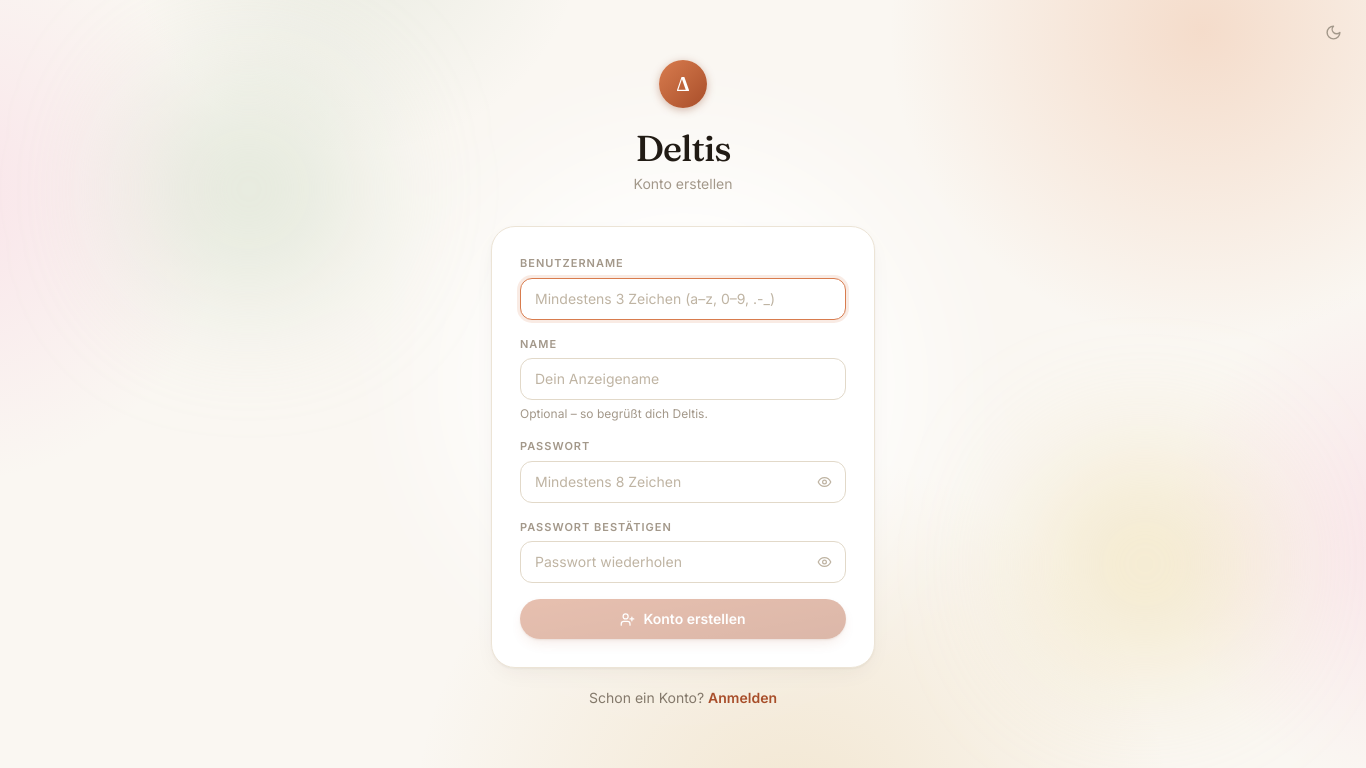
Test: Register – Ablauf › shows server errors (e.g. username taken)
Type "vergeben" into the field with placeholder "Mindestens 3 Zeichen (a–z, 0–9, .-_)".
click(683, 298); type("vergeben")  # box left=520, top=278, right=846, bottom=320
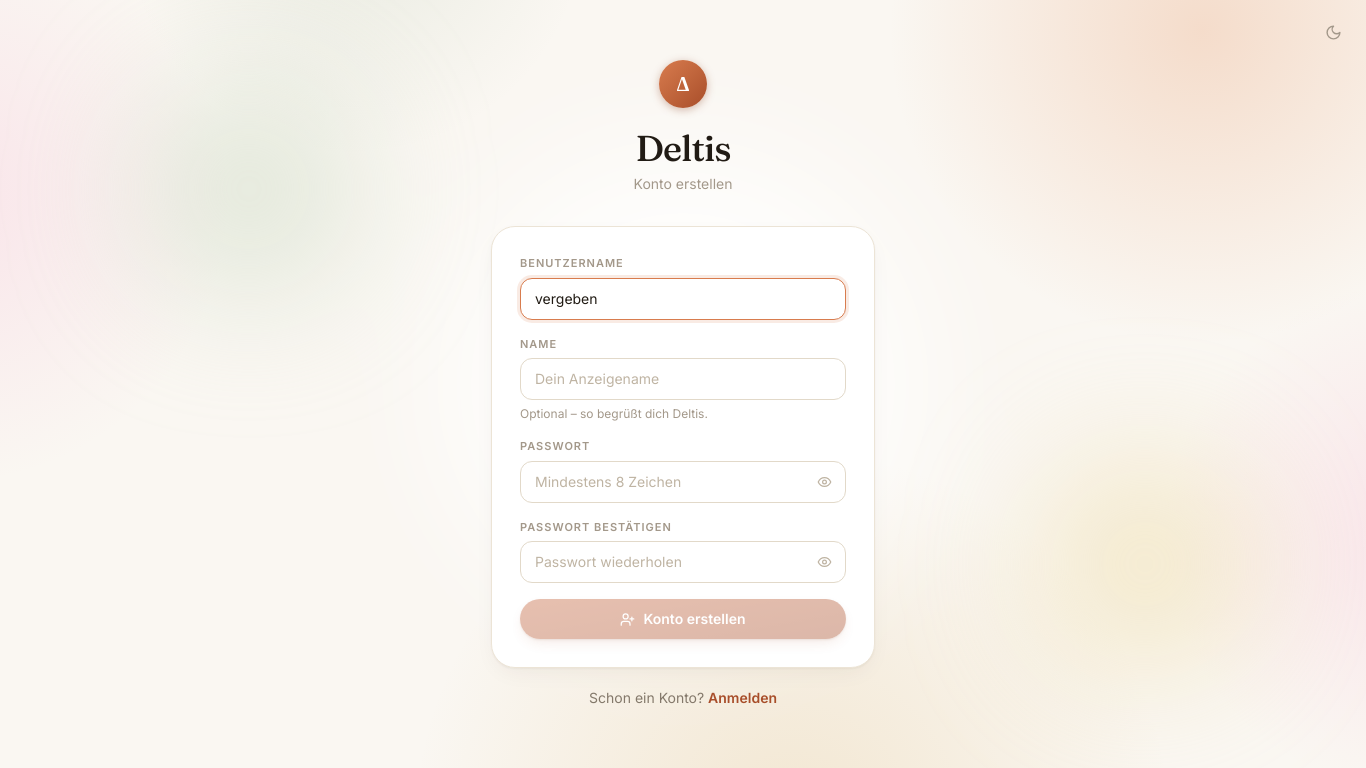
Type "superpasswort" into the password field with placeholder "Mindestens 8 Zeichen".
click(683, 482); type("superpasswort")  # box left=520, top=460, right=846, bottom=502
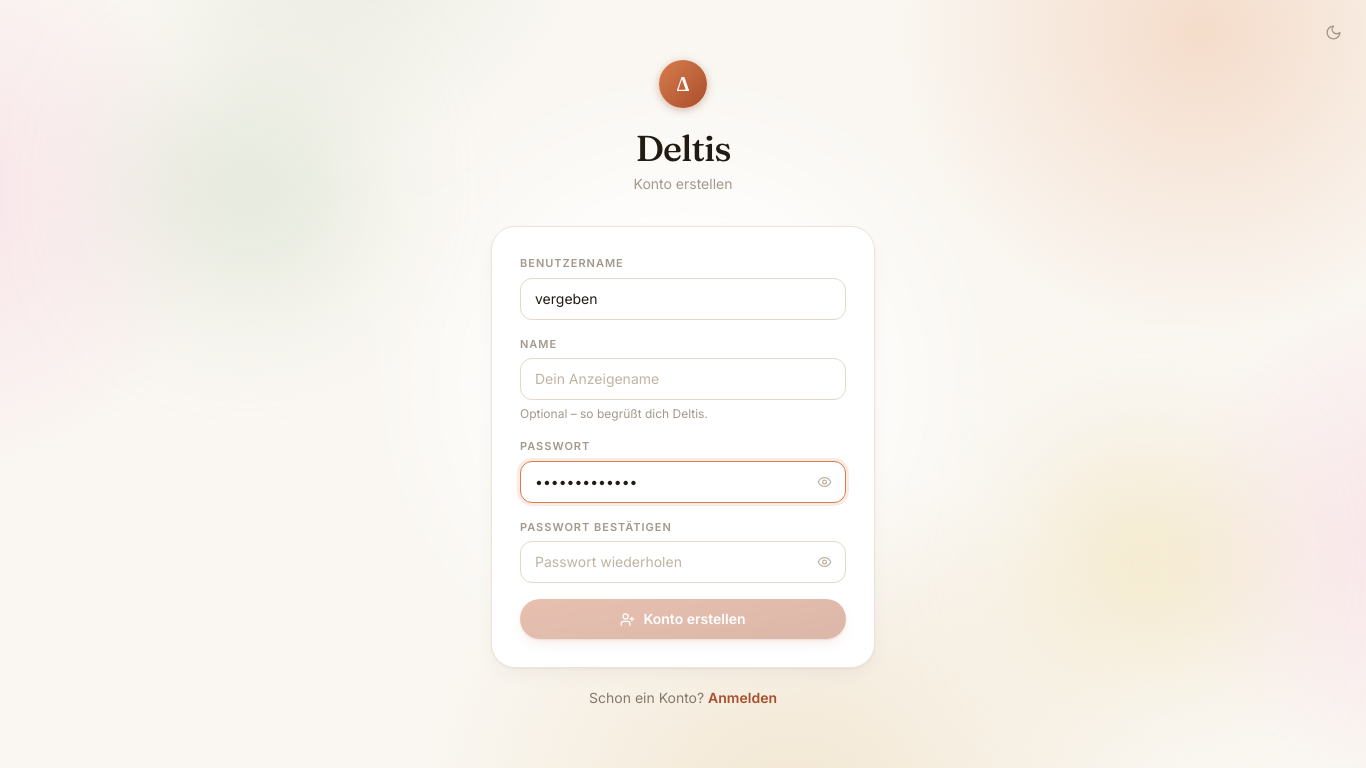
Type "superpasswort" into the password field with placeholder "Passwort wiederholen".
click(683, 562); type("superpasswort")  # box left=520, top=541, right=846, bottom=583
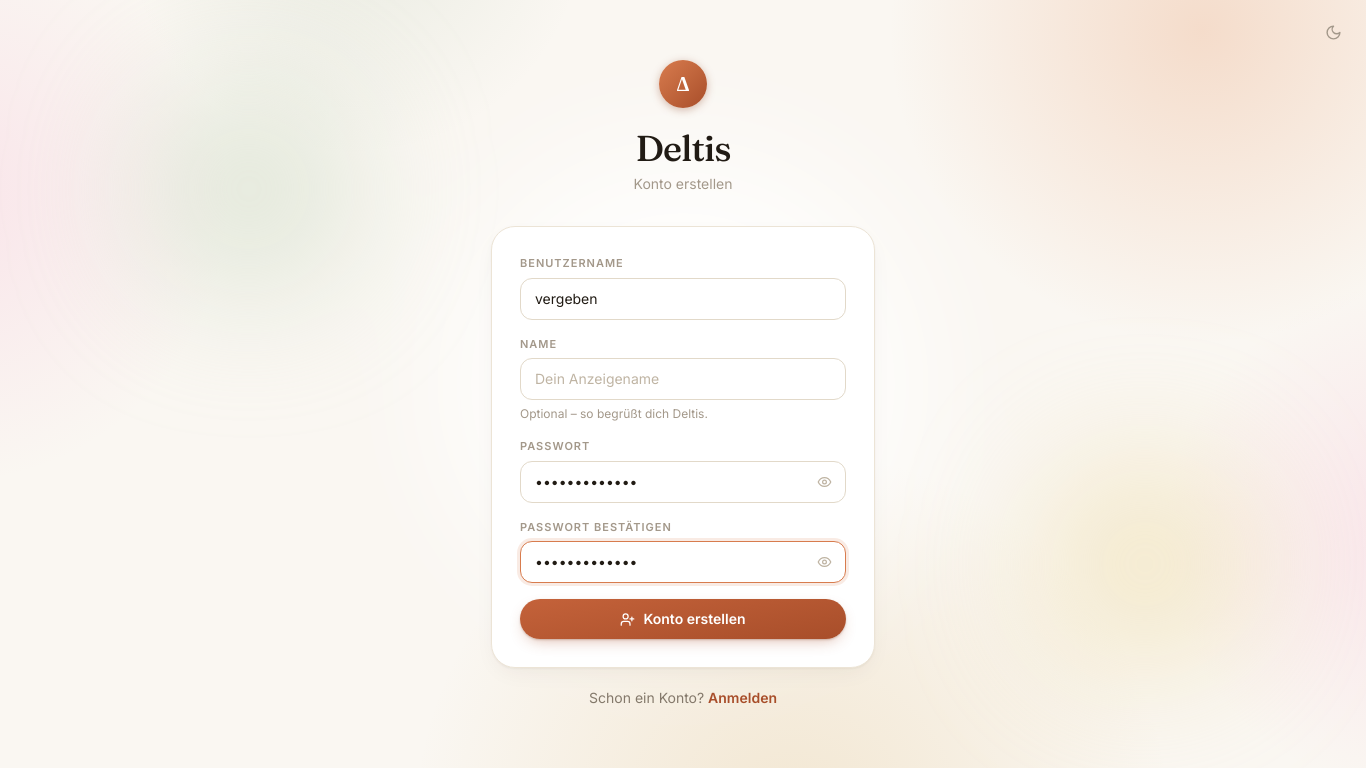
Click the button "Konto erstellen".
click(683, 619)  # box left=520, top=599, right=846, bottom=639
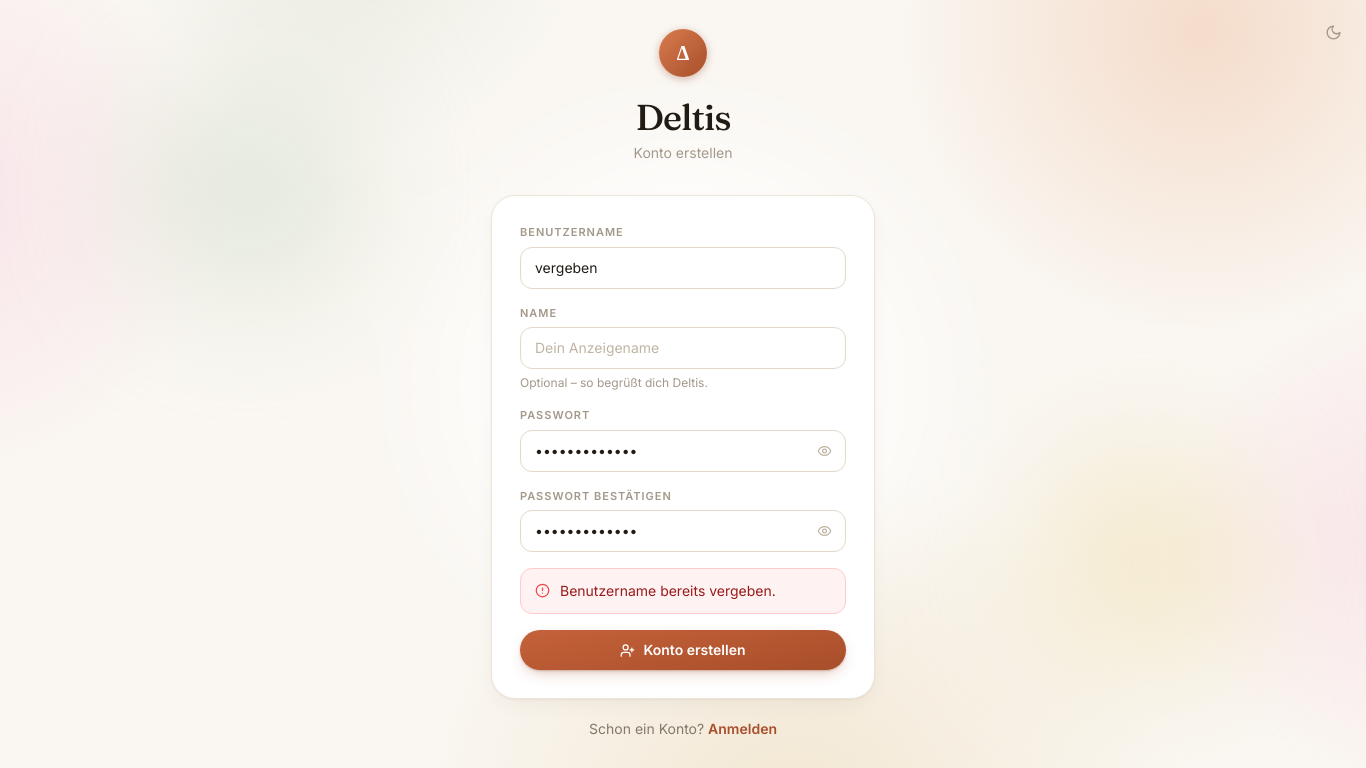
Result: the text "Benutzername bereits vergeben." is shown at left=560, top=581, right=776, bottom=601
